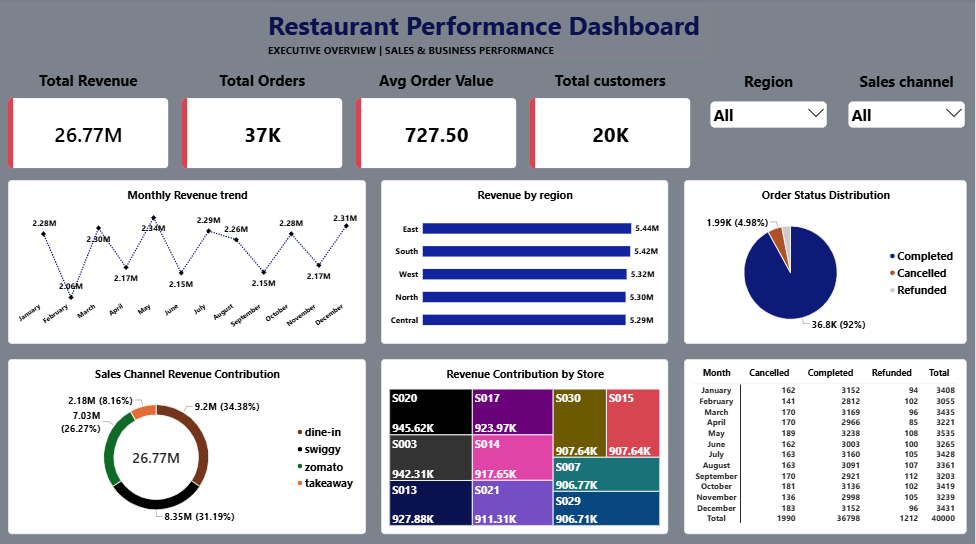

This screenshot's page, from the dashboard's own definition file:
{"tool":"powerbi","page":{"name":"Executive Overview","canvas":[1920,1080],"ordinal":0},"visuals":[{"type":"cardVisual","title":"Total Revenue","fields":{"Data":["orders.Total Revenue"]},"box":[22,141.1,315.2,194],"z":0},{"type":"cardVisual","title":"Completed Orders","fields":{"Data":["orders.Total Orders"]},"box":[363.8,141.1,315,194],"z":1000},{"type":"cardVisual","title":"Avg Order Value","fields":{"Data":["orders.AOV"]},"box":[705.4,141.1,315,194],"z":2000},{"type":"lineChart","title":"Monthly Revenue trend","fields":{"Category":["Calendar.Date.Variation.Date Hierarchy.Month"],"Y":["orders.Total Revenue"]},"box":[22,357.1,703.1,321.8],"z":3000},{"type":"clusteredBarChart","title":"Revenue by region","fields":{"Category":["stores.region"],"Y":["orders.Total Revenue"]},"box":[753.8,357.1,564.2,321.8],"z":4000},{"type":"donutChart","title":"Sales Channel Revenue Contribution","fields":{"Category":["orders.sales_channel"],"Y":["orders.Total Revenue"]},"box":[22,709.7,703.1,343.8],"z":5000},{"type":"slicer","title":"Region","fields":{"Values":["stores.region"]},"box":[1395.2,143.3,238,193],"z":6000},{"type":"slicer","title":"Sales channel","fields":{"Values":["orders.sales_channel"]},"box":[1666.3,143.3,238,194],"z":7000},{"type":"treemap","title":"Top 10 Stores by Revenue","fields":{"Group":["orders.store_id"],"Values":["orders.Total Revenue"]},"box":[753.8,709.7,564.2,343.8],"z":8000},{"type":"pieChart","title":"Order Status Distribution","fields":{"Category":["orders.order_status"],"Y":["CountNonNull(orders.order_id)"]},"box":[1348.9,357.1,555.4,321.8],"z":9000},{"type":"pivotTable","fields":{"Columns":["orders.order_status"],"Rows":["Calendar.Date.Variation.Date Hierarchy.Month"],"Values":["CountNonNull(orders.order_id)"]},"box":[1348.9,709.7,555.4,343.8],"z":10000},{"type":"cardVisual","title":"Total customers","fields":{"Data":["Count(customers.customer_id)"]},"box":[1046.9,141.1,315,194],"z":11000},{"type":"textbox","title":"Restaurant Performance Dashboard","box":[531.3,17.6,857.4,97],"z":12000}]}

Visuals, with their boxes in screenshot pixels (x1, y1, x2, y2), scaled from the page's 1920x1080 canvas onto the 976x544 screenshot:
"Total Revenue" cardVisual: bbox(11, 71, 171, 169)
"Completed Orders" cardVisual: bbox(185, 71, 345, 169)
"Avg Order Value" cardVisual: bbox(359, 71, 519, 169)
"Monthly Revenue trend" lineChart: bbox(11, 180, 369, 342)
"Revenue by region" clusteredBarChart: bbox(383, 180, 670, 342)
"Sales Channel Revenue Contribution" donutChart: bbox(11, 357, 369, 531)
"Region" slicer: bbox(709, 72, 830, 169)
"Sales channel" slicer: bbox(847, 72, 968, 170)
"Top 10 Stores by Revenue" treemap: bbox(383, 357, 670, 531)
"Order Status Distribution" pieChart: bbox(686, 180, 968, 342)
pivotTable - orders.order_status x Calendar.Date.Variation.Date Hierarchy.Month: bbox(686, 357, 968, 531)
"Total customers" cardVisual: bbox(532, 71, 692, 169)
"Restaurant Performance Dashboard" textbox: bbox(270, 9, 706, 58)
